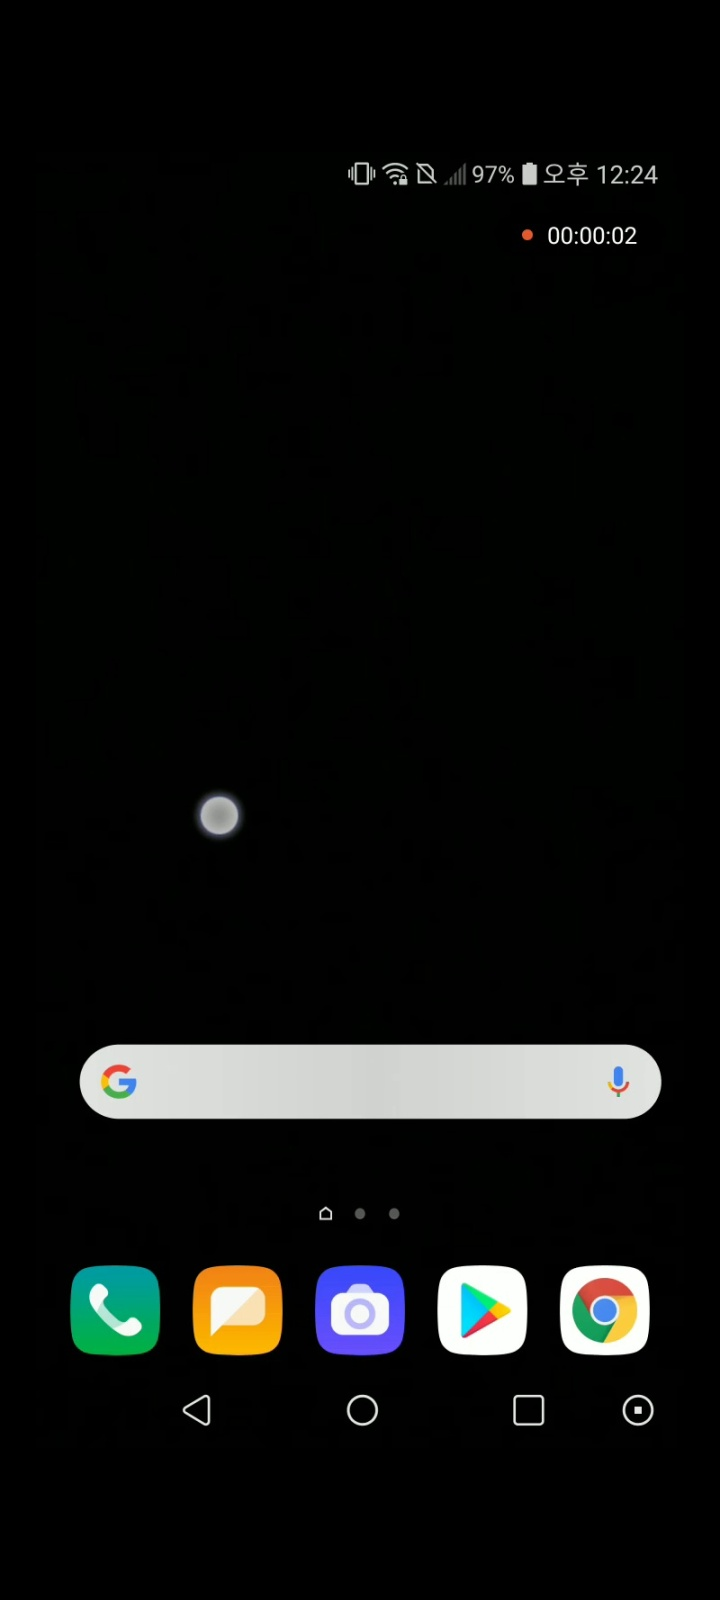Cursor: (198, 793, 243, 838)
